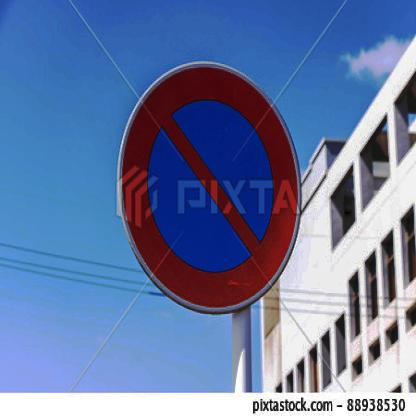No parking: (116, 61, 301, 318)
